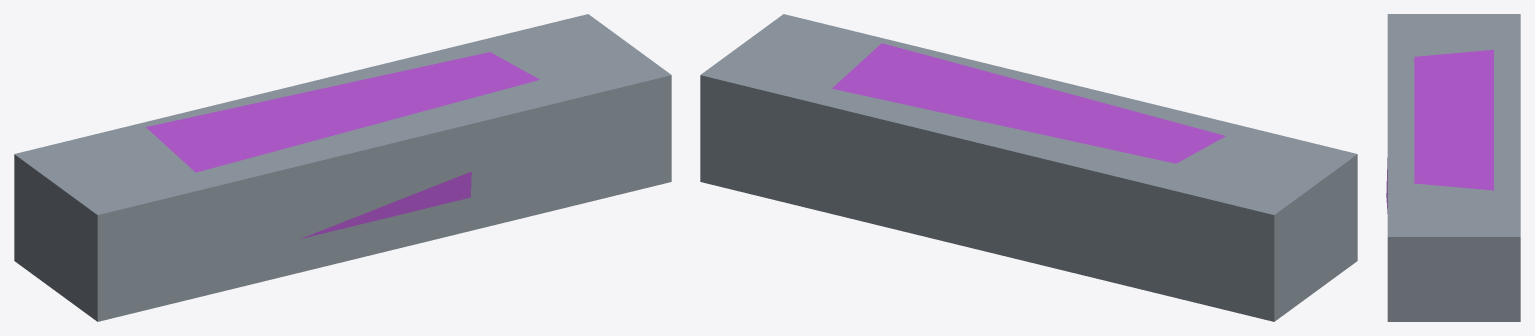
File: CH_BathysSubmarine_LOD1.glb
3 renders of one model, left to right at view 1: azimuth 30°, elevation 25°; view 2: azimuth 150°, elevation 25°; view 3: azimuth 270°, elevation 25°, orthographic. The views are drawn at different scales.
Parts seen in each view (by area): view 1: EntranceGate; view 2: EntranceGate; view 3: EntranceGate.
Boxes of the visible parts, x1,y1,x2,y2 form: EntranceGate: (14,14,671,321); EntranceGate: (700,14,1357,321); EntranceGate: (1386,14,1520,321).
Bounding box in the file's own units: 1350 × 265 × 343.
